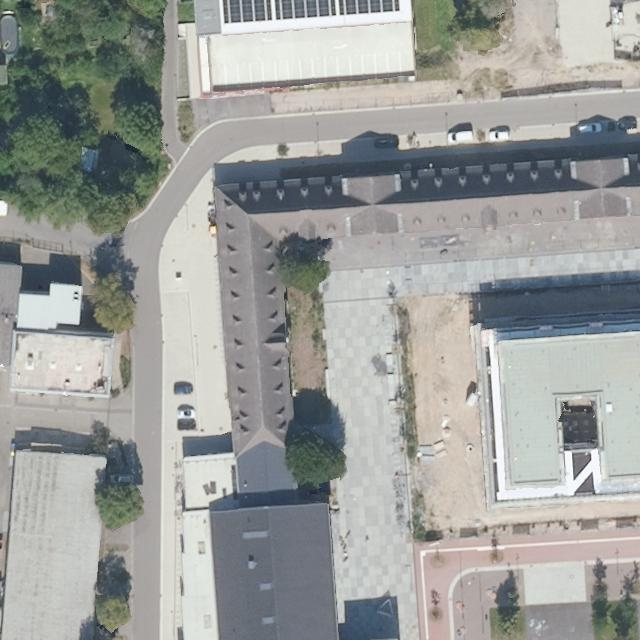PV: (218, 3, 409, 41)
